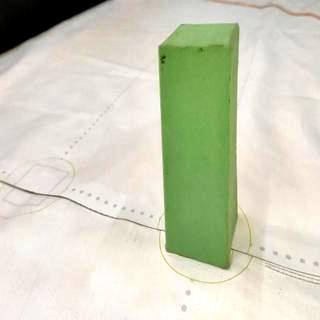greenbox: (158, 23, 241, 270)
